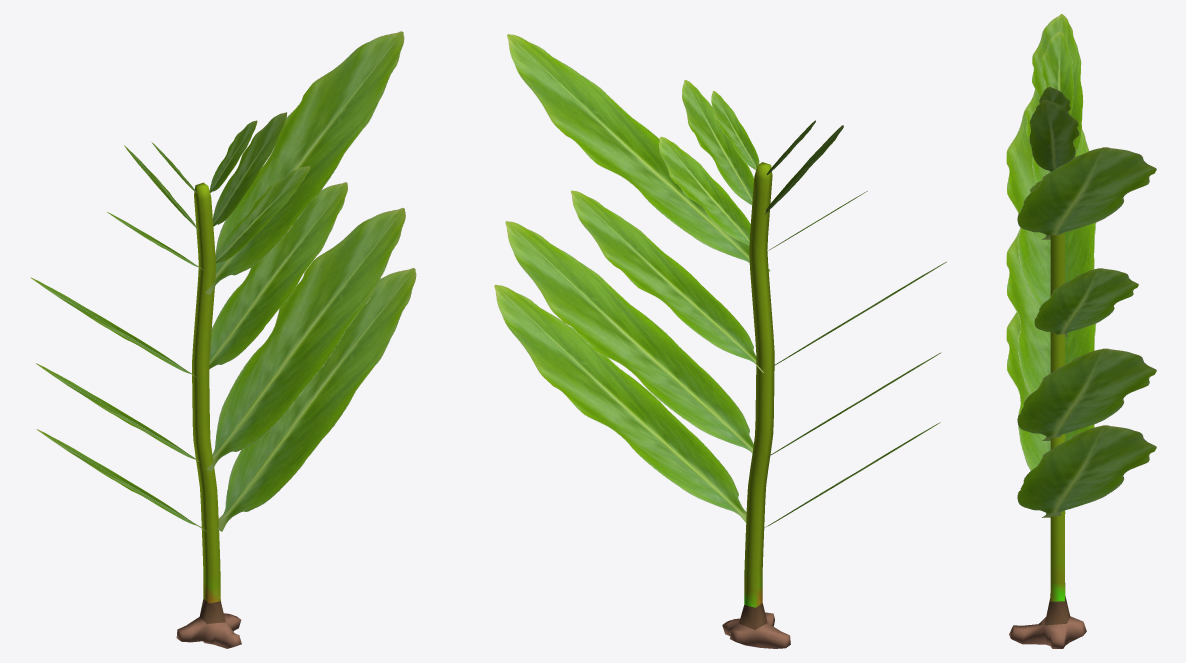
Rendered from gengibre.fbx.
3 views of the same model, side by side, from view 1: azimuth 30°, elevation 25°; view 2: azimuth 150°, elevation 25°; view 3: azimuth 270°, elevation 25° (orthographic). The views are drawn at different scales.
Visible parts, largest first — view 1: gengibreFolha, gengibre; view 2: gengibreFolha, gengibre; view 3: gengibreFolha, gengibre.
Part boxes in pixels (bbox=[...]): gengibreFolha: bbox=[30, 31, 416, 531]; gengibre: bbox=[176, 182, 241, 648]; gengibreFolha: bbox=[494, 34, 946, 530]; gengibre: bbox=[722, 162, 790, 648]; gengibreFolha: bbox=[1006, 14, 1156, 517]; gengibre: bbox=[1009, 232, 1086, 648].
Size of the model in its own units: 104 by 131 by 33.4.
